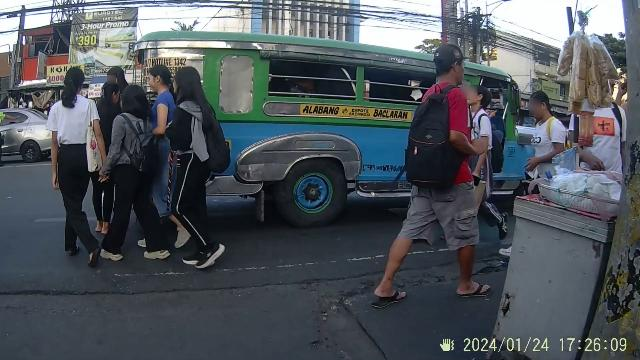street_vendor_cart: (500, 9, 624, 355)
